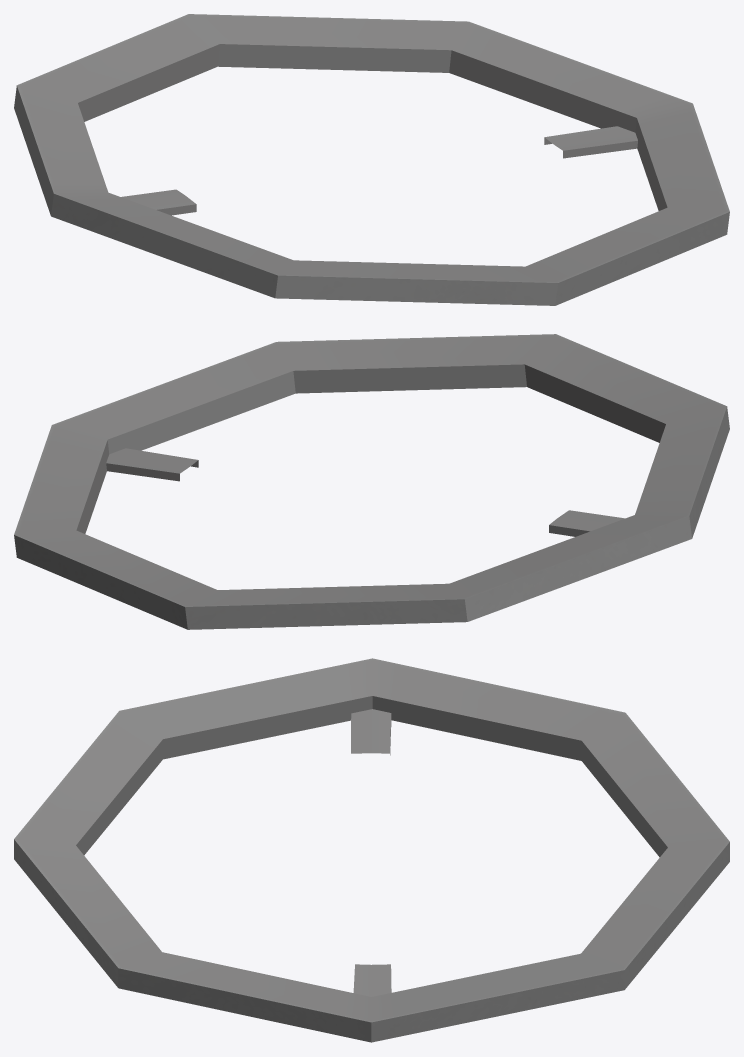
Rendered from STRAYKIDS_06.glb.
3 views of the same model, one above another, from view 1: azimuth 30°, elevation 25°; view 2: azimuth 150°, elevation 25°; view 3: azimuth 270°, elevation 25° (orthographic). The views are drawn at different scales.
Visible parts, largest first — view 1: STRAYKIDS_06; view 2: STRAYKIDS_06; view 3: STRAYKIDS_06.
Boxes of the visible parts, x1,y1,x2,y2 form: STRAYKIDS_06: [14, 14, 729, 305]; STRAYKIDS_06: [14, 334, 729, 629]; STRAYKIDS_06: [14, 658, 729, 1042].
Bounding box in the file's own units: 0.2185 × 0.0285 × 0.2185.
Materials: 1 (1 with a texture image).
